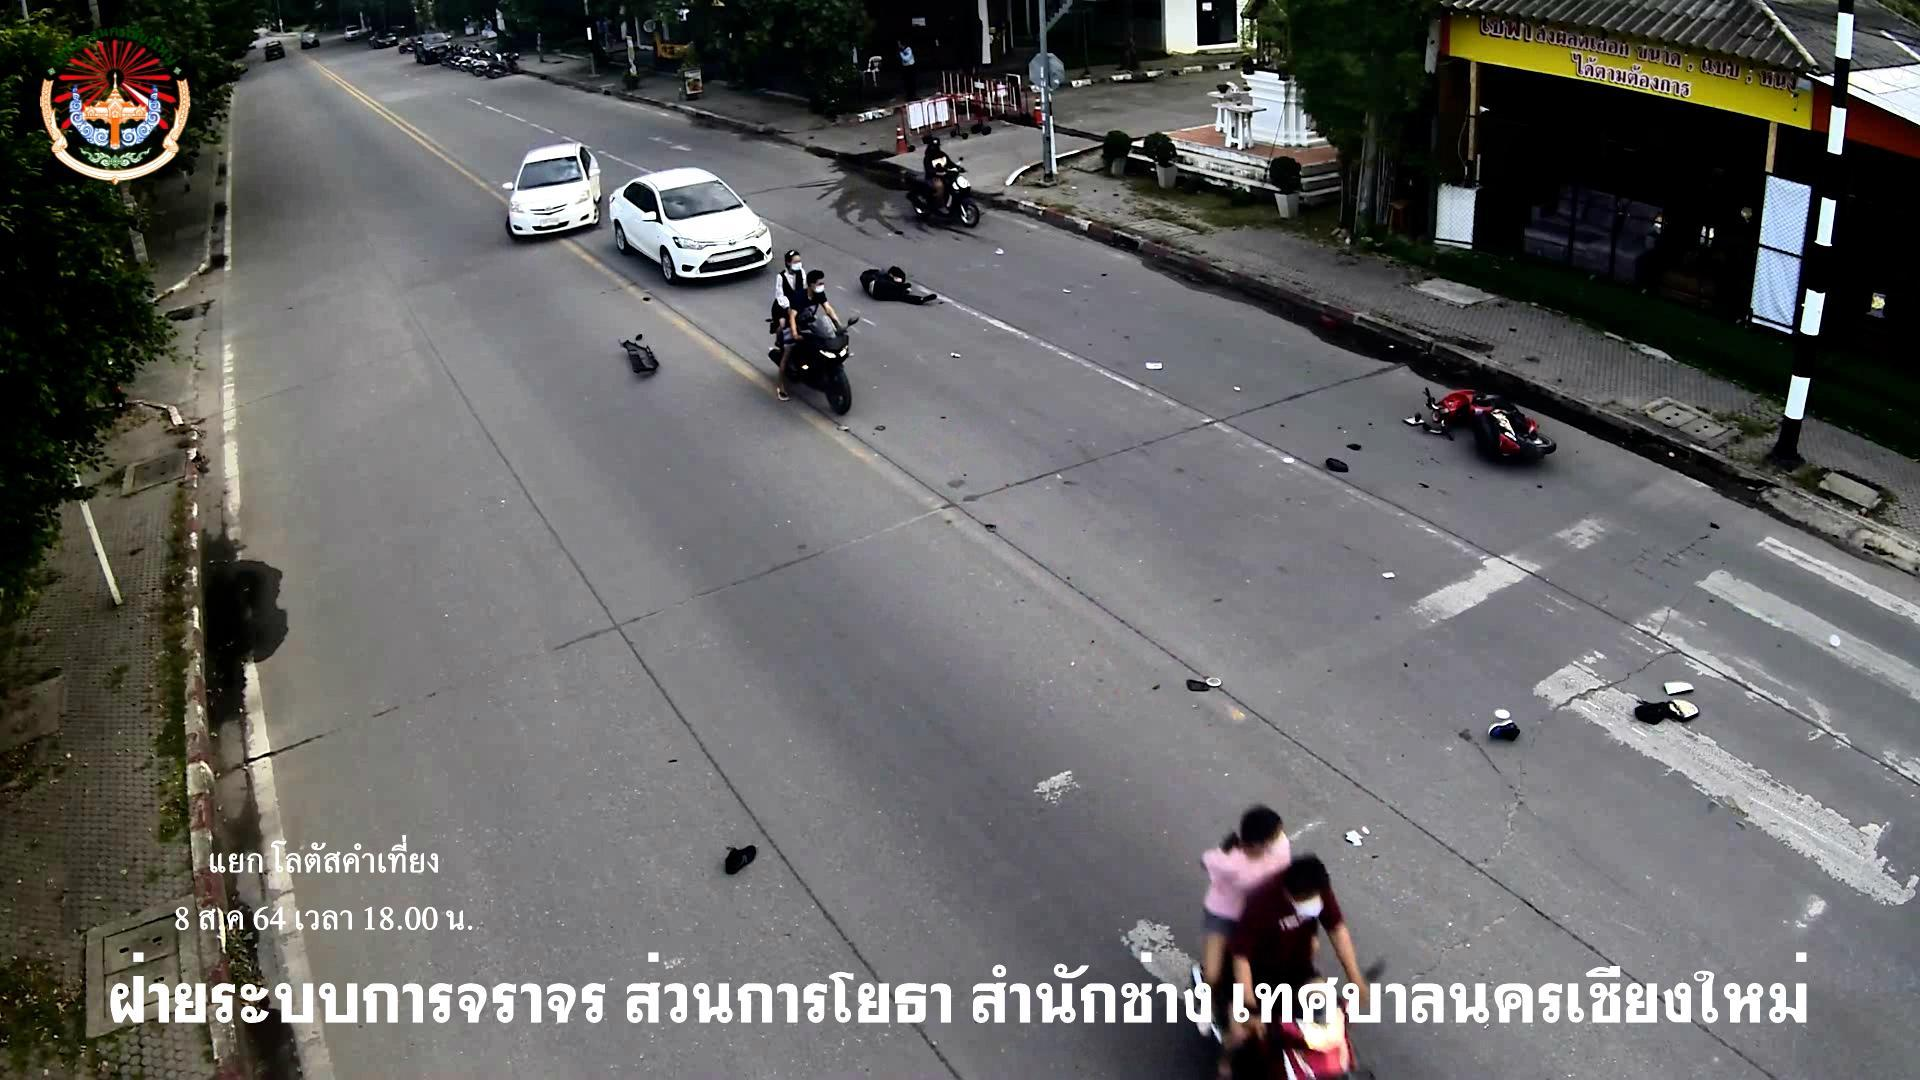accident: (856, 258, 943, 314)
